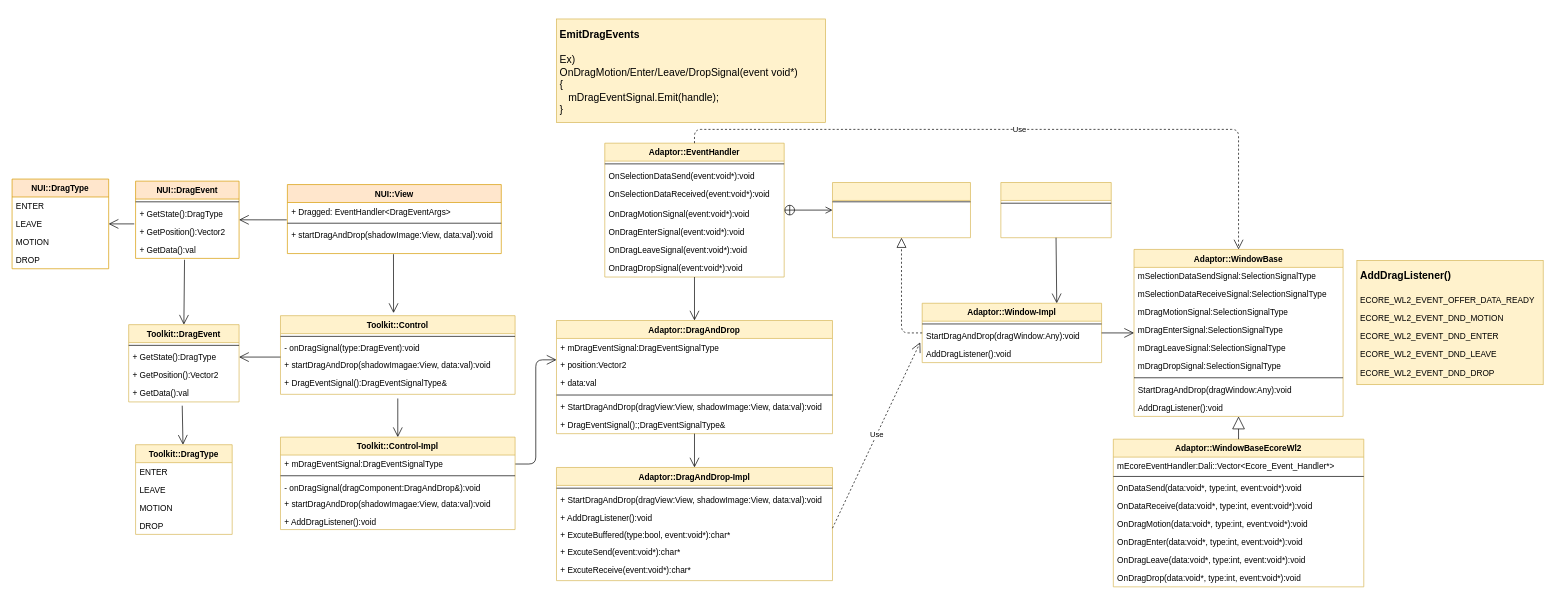
Some shapes in this 1555 by 600 pixel diagram are drawn without their labels. The centre of each missing label's shape, as x and y in pixels:
"Adaptor::EventHandler.Observer" belongs at (901,210).
"Adaptor::Window" belongs at (1055,210).
